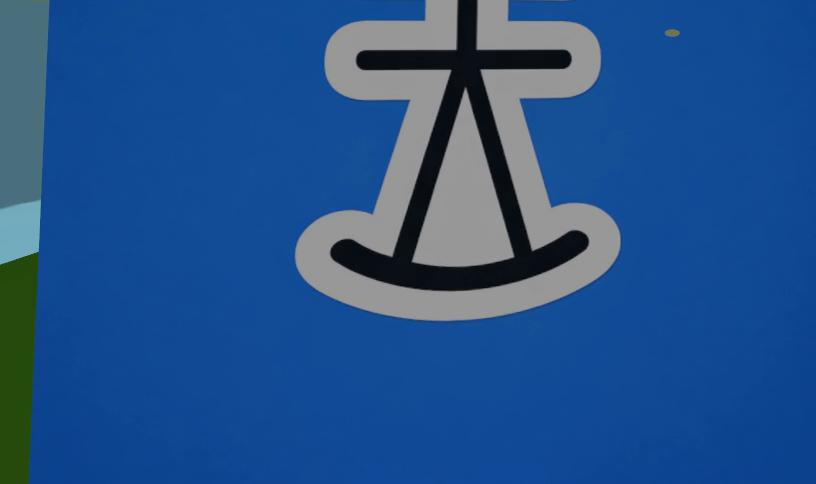KFS_REAL: (30, 0, 816, 483), (296, 0, 619, 320)
